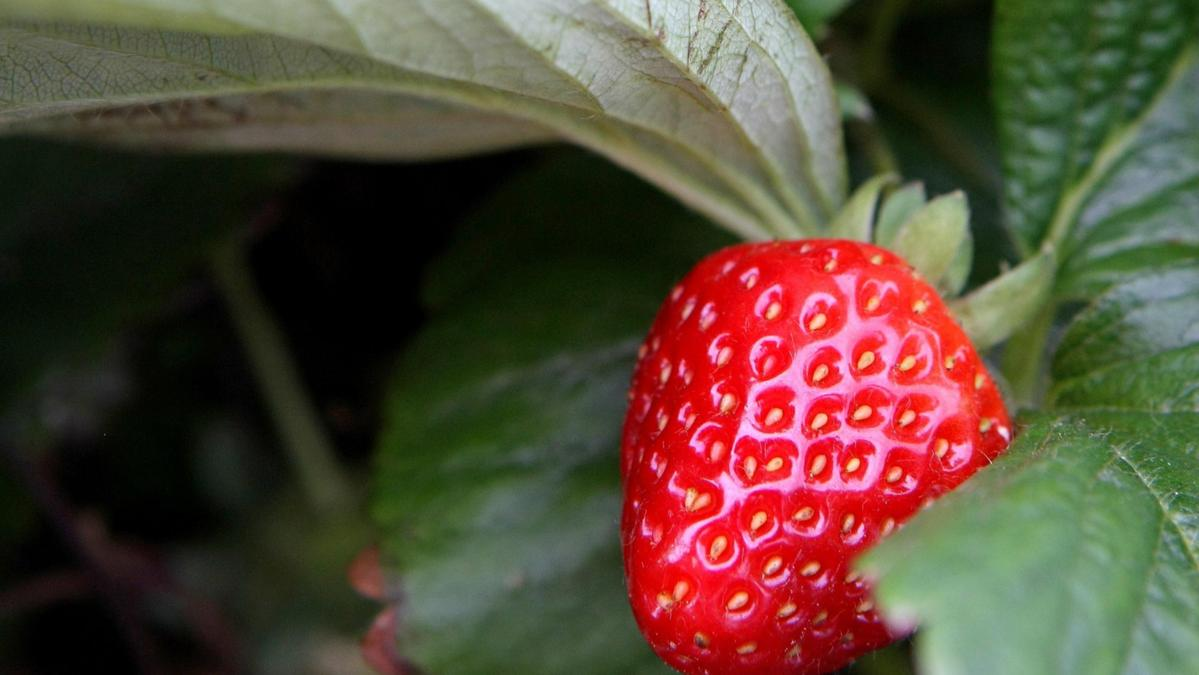ripe: (618, 233, 1043, 670)
